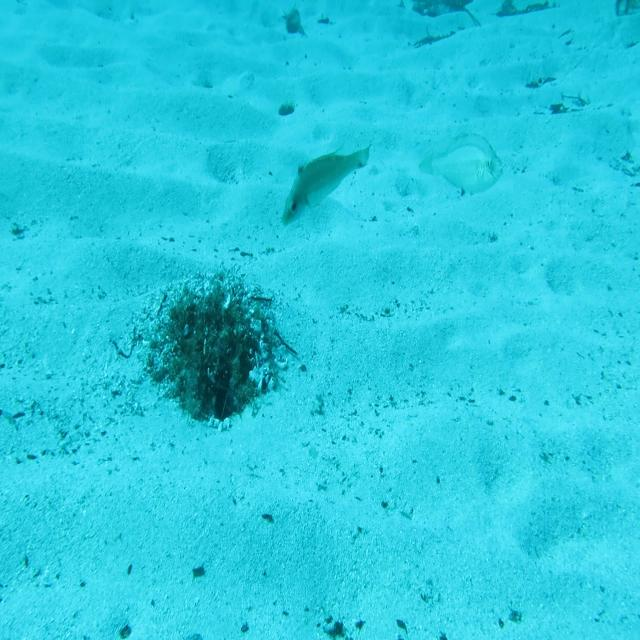LAND: (278, 139, 380, 236)
female: (416, 123, 508, 203)
nest: (153, 276, 290, 437)
